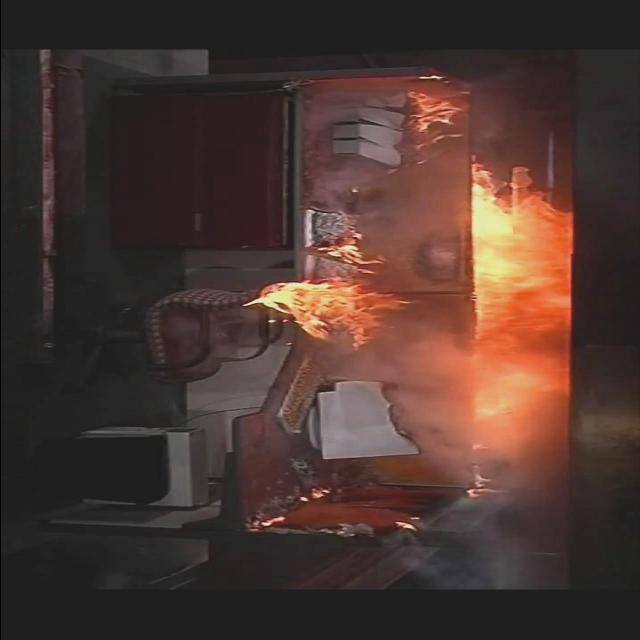Fire: (466, 161, 580, 435), (239, 274, 405, 352), (409, 89, 466, 153), (311, 233, 399, 270), (461, 463, 511, 501)
